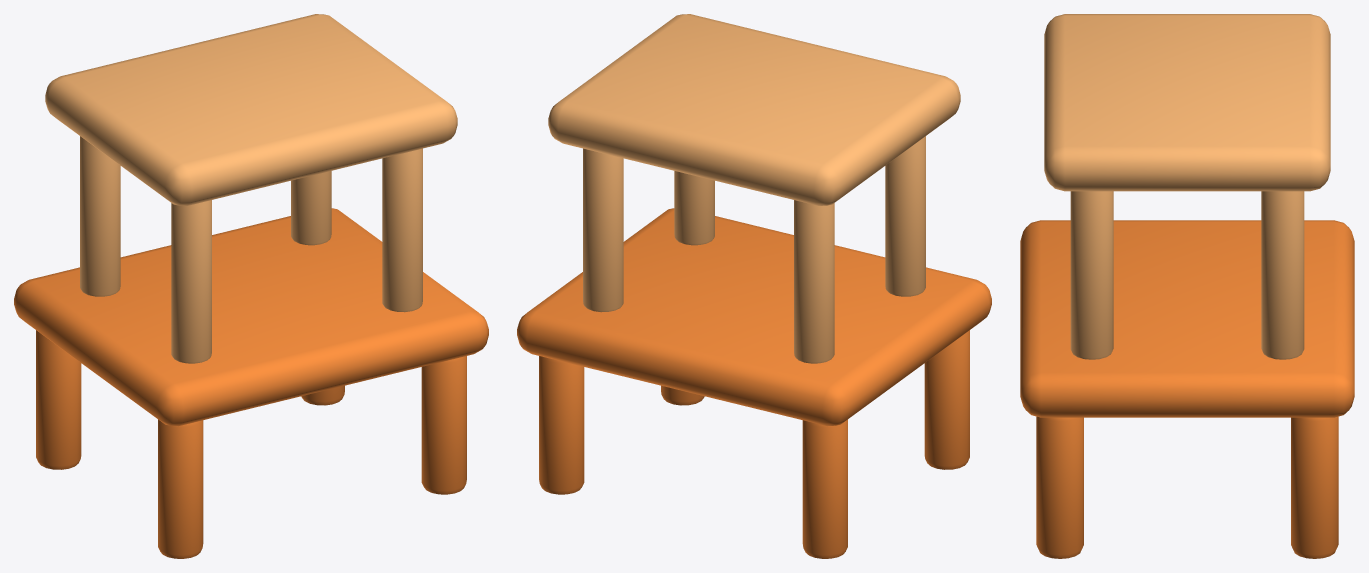
File: criado_dois_andares_laranja.glb
The picture shows the model from 3 angles, left to right: view 1: azimuth 30°, elevation 25°; view 2: azimuth 150°, elevation 25°; view 3: azimuth 270°, elevation 25°; orthographic projection. The views are drawn at different scales.
Parts seen in each view (by area): view 1: criado_dois_andares_laranja; view 2: criado_dois_andares_laranja; view 3: criado_dois_andares_laranja.
Boxes of the visible parts, left/top/right/bottom form: criado_dois_andares_laranja: left=14, top=14, right=488, bottom=558; criado_dois_andares_laranja: left=517, top=14, right=991, bottom=558; criado_dois_andares_laranja: left=1020, top=14, right=1354, bottom=558.
Bounding box in the file's own units: 0.5 × 0.56 × 0.42.
Materials: 1 (1 with a texture image).
